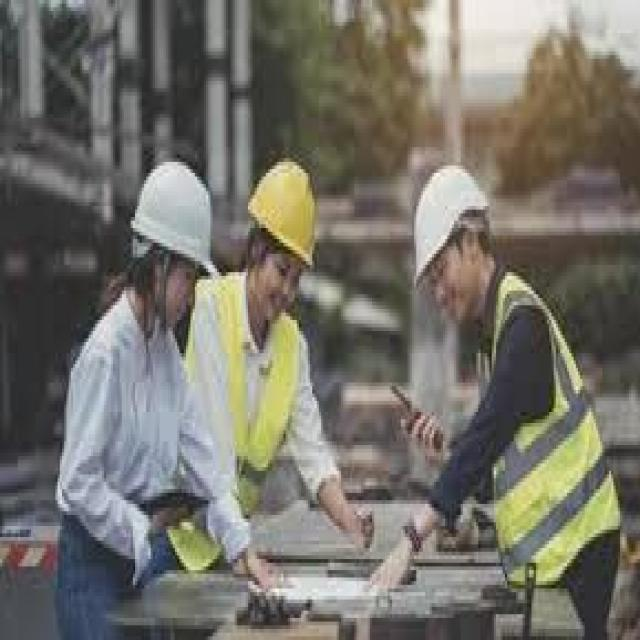Reflective-Jacket: (469, 261, 629, 600), (192, 280, 326, 537)
Safety-Helmet: (396, 147, 496, 291), (120, 147, 222, 287), (239, 147, 332, 280)
